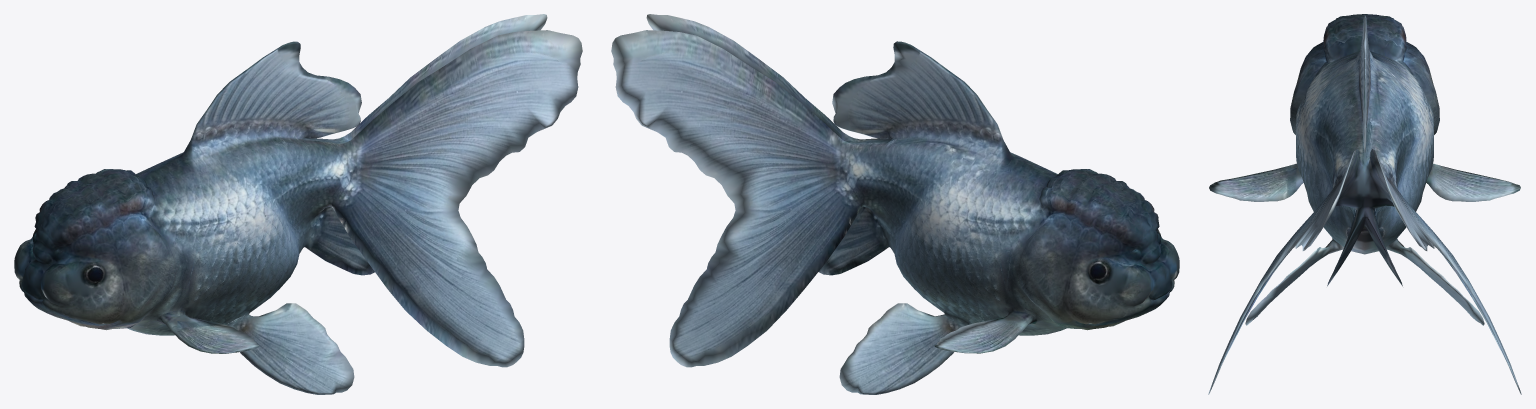
File: fish.glb
3 renders of one model, left to right at view 1: azimuth 30°, elevation 25°; view 2: azimuth 150°, elevation 25°; view 3: azimuth 270°, elevation 25°, orthographic.
Visible parts, largest first — view 1: fish; view 2: fish; view 3: fish.
Part boxes in pixels (x1,y1,x2,y2): fish: (14, 14, 582, 394); fish: (611, 14, 1179, 394); fish: (1208, 14, 1521, 394).
Bounding box in the file's own units: 0.12 × 0.0655 × 0.06.
1 material, 1 textured.
